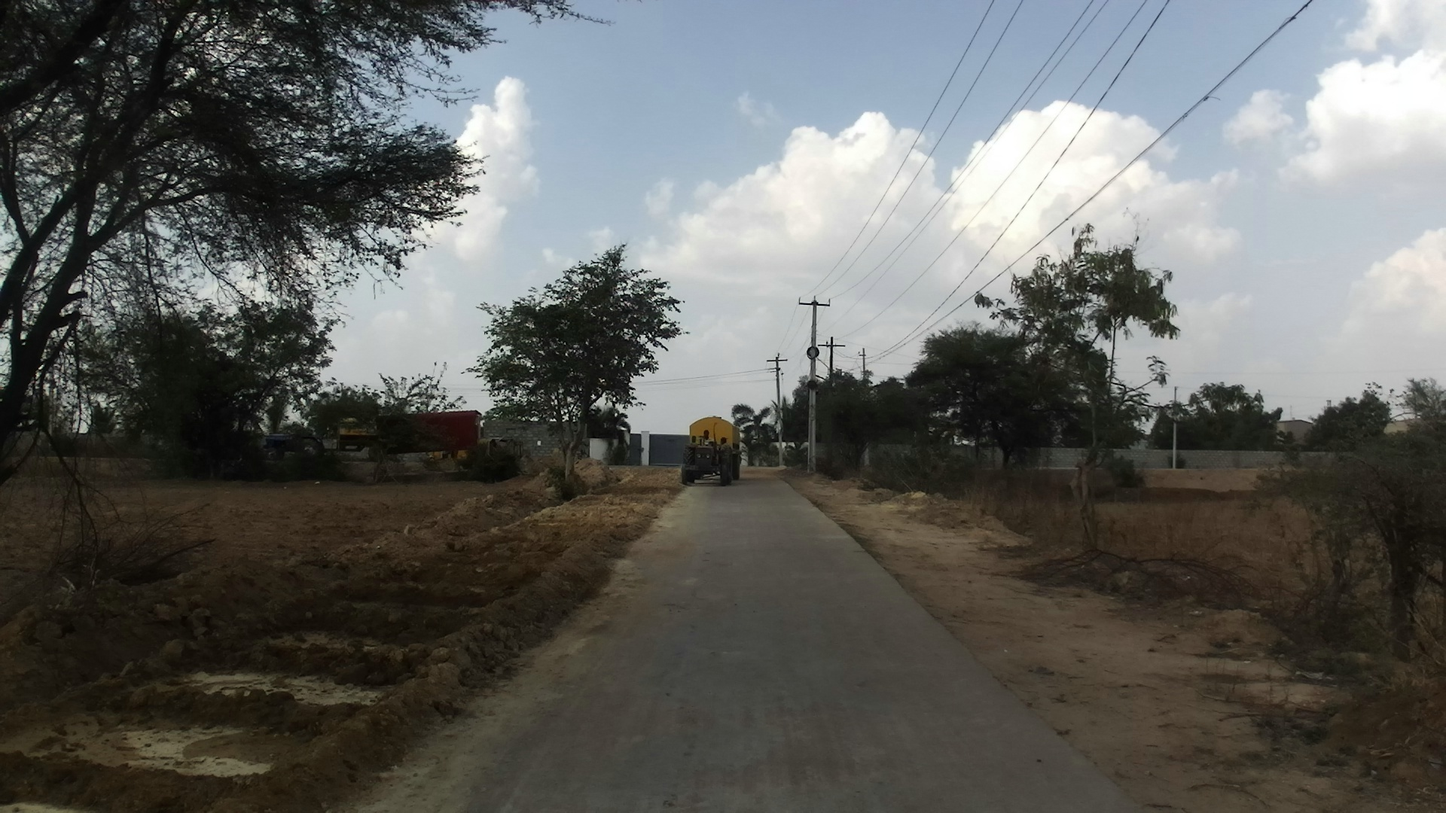person: (718, 437, 734, 486)
rider: (702, 431, 715, 446)
truck: (337, 411, 481, 452), (264, 431, 325, 461)
vehicle fallback: (679, 416, 743, 486), (480, 437, 523, 467)
